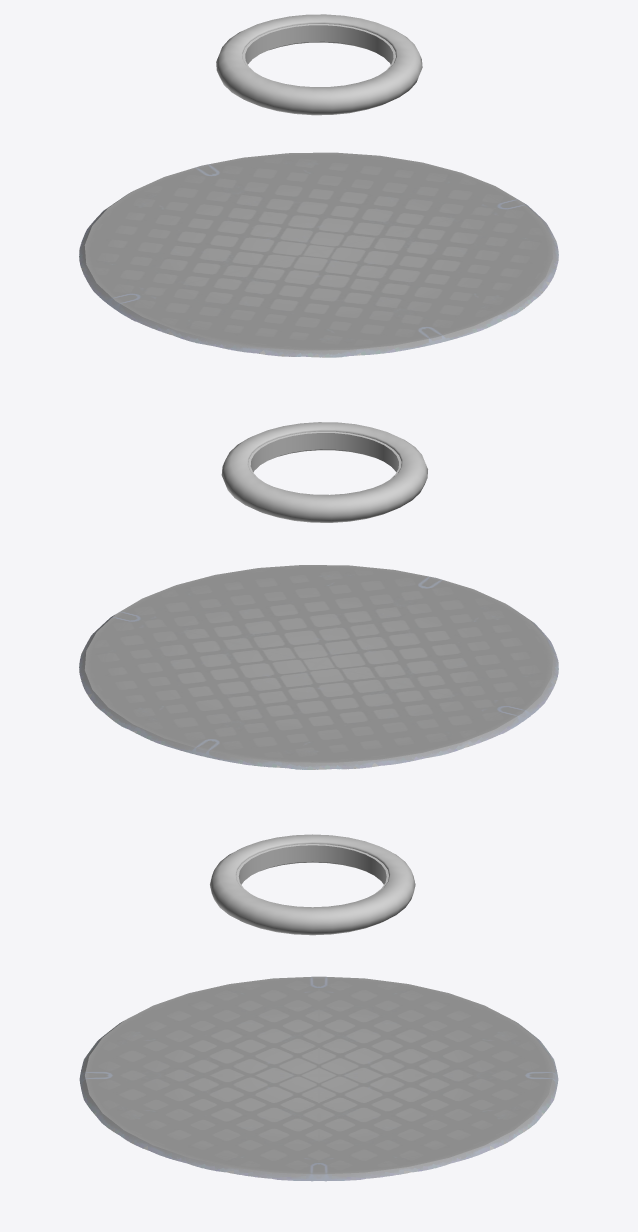
File: pref_TPC_v2_NeutralScoreArea03_winter_orange_dead_lv3.fbx
3 renders of one model, top to bottom at view 1: azimuth 30°, elevation 25°; view 2: azimuth 150°, elevation 25°; view 3: azimuth 270°, elevation 25°, orthographic.
Visible parts, largest first — view 1: sm_prop_platform06a_lv3, sm_prop_platform06b_lv3; view 2: sm_prop_platform06a_lv3, sm_prop_platform06b_lv3; view 3: sm_prop_platform06a_lv3, sm_prop_platform06b_lv3.
Part boxes in pixels (left/top/right/bottom): sm_prop_platform06a_lv3: left=79, top=152, right=558, bottom=357; sm_prop_platform06b_lv3: left=216, top=14, right=422, bottom=115; sm_prop_platform06a_lv3: left=79, top=565, right=558, bottom=769; sm_prop_platform06b_lv3: left=221, top=422, right=427, bottom=522; sm_prop_platform06a_lv3: left=79, top=976, right=558, bottom=1181; sm_prop_platform06b_lv3: left=210, top=834, right=415, bottom=935.
Size of the model in its own units: 7.46 by 2.88 by 7.46.
